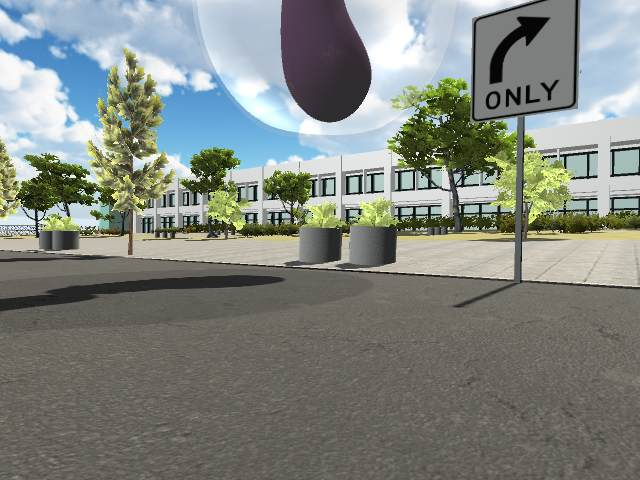arrow_right: (486, 13, 554, 84)
